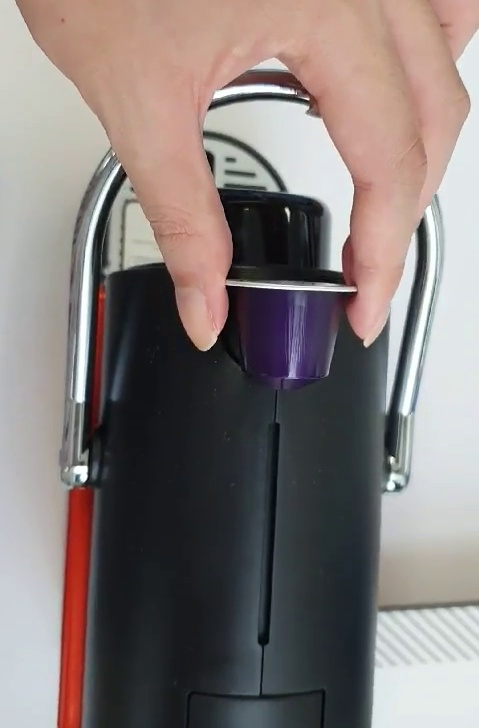capsule_2: (223, 274, 365, 394)
